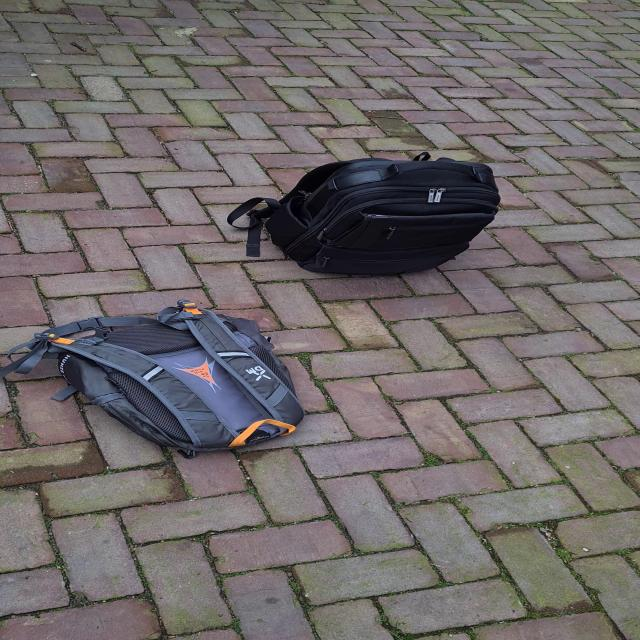backpack: (18, 298, 310, 457), (248, 150, 514, 280)
